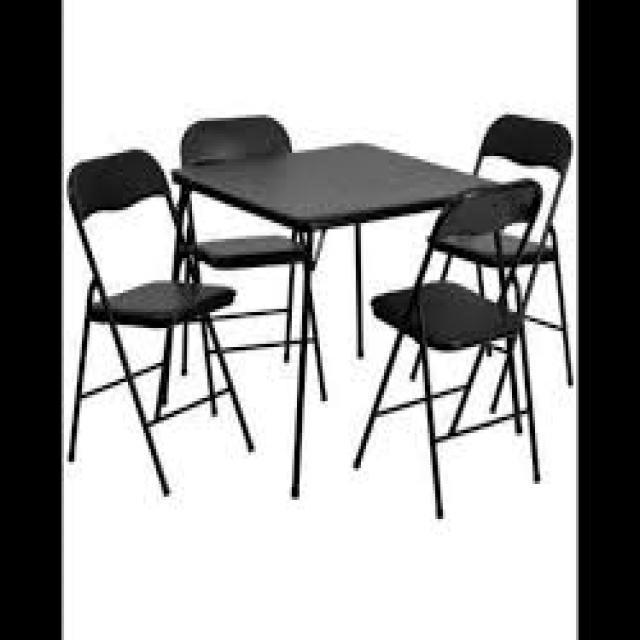chair: (65, 152, 263, 502), (350, 178, 547, 526), (405, 110, 577, 416), (173, 110, 330, 420)
